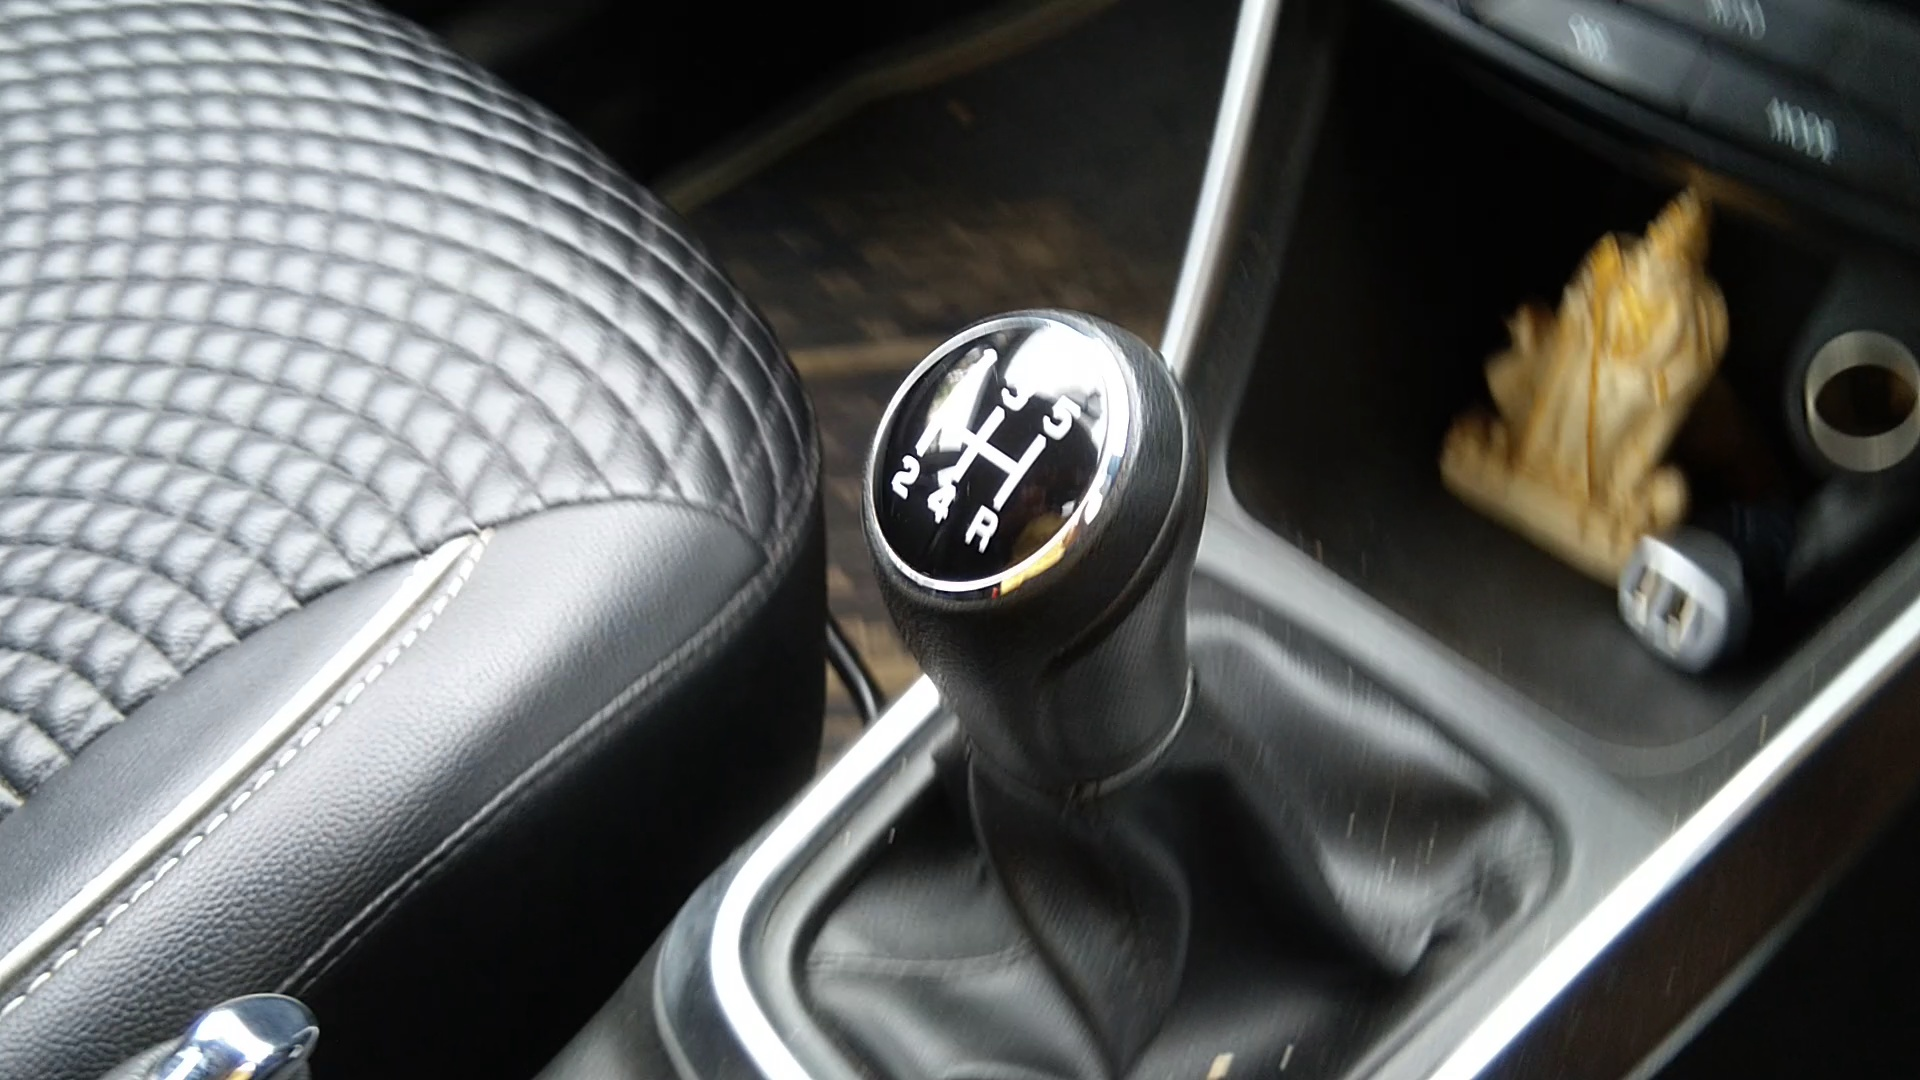manual_gear: (872, 280, 1204, 795)
